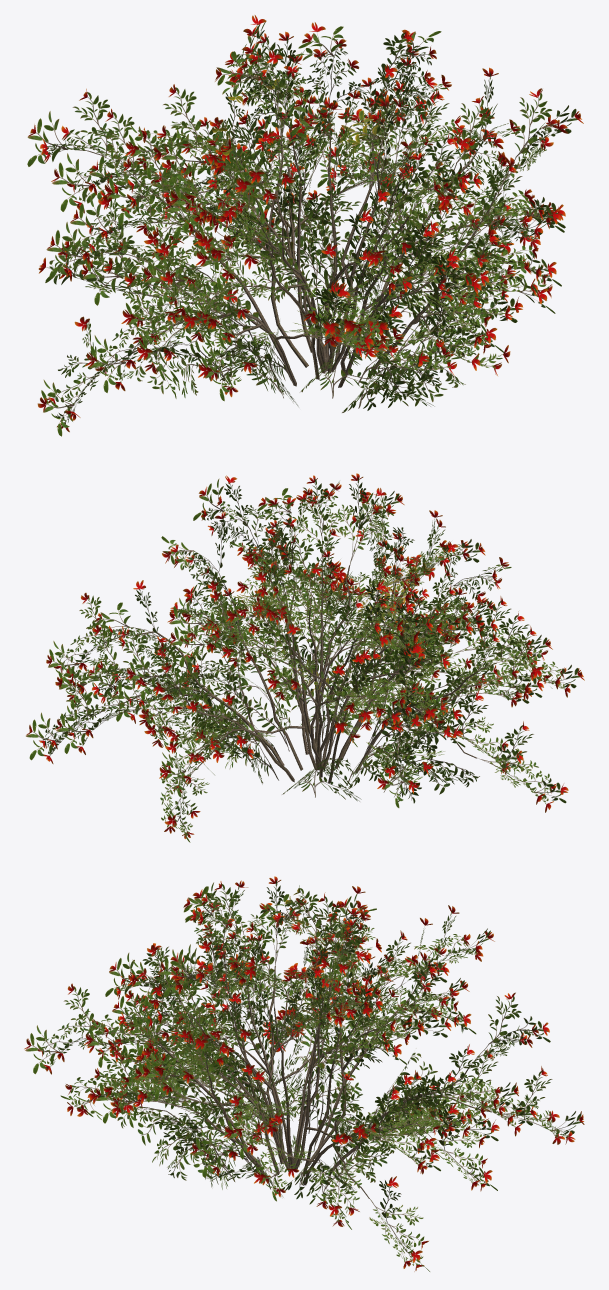
File: bush_red_flower.glb
The picture shows the model from 3 angles, top to bottom: view 1: azimuth 30°, elevation 25°; view 2: azimuth 150°, elevation 25°; view 3: azimuth 270°, elevation 25°; orthographic projection. The views are drawn at different scales.
Visible parts, largest first — view 1: bush_red_flower; view 2: bush_red_flower; view 3: bush_red_flower.
Part boxes in pixels (x1=…): bush_red_flower: x1=27, y1=15, x2=583, y2=436; bush_red_flower: x1=26, y1=473, x2=584, y2=842; bush_red_flower: x1=24, y1=876, x2=584, y2=1271.
Size of the model in its own units: 6.54 by 3.33 by 6.64.
Materials: 5 (5 with a texture image).
